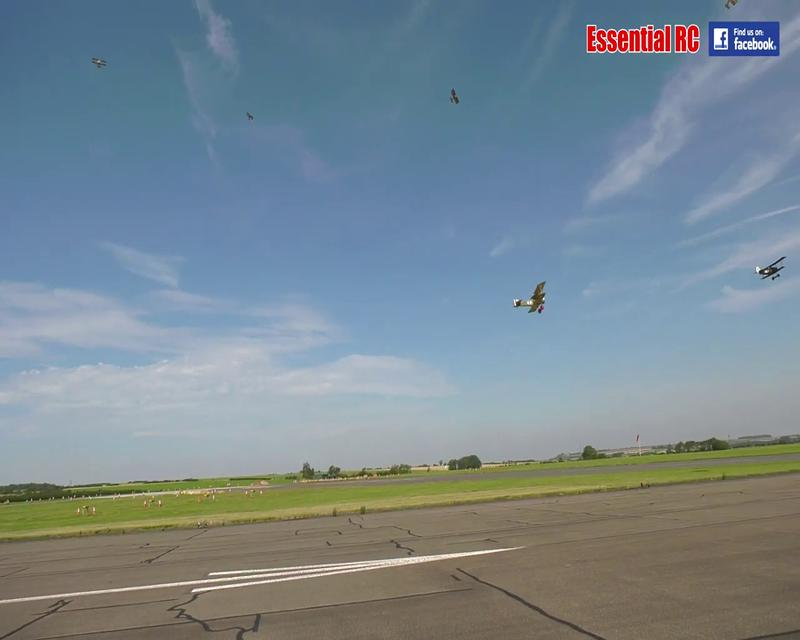UAV: (512, 281, 548, 314), (754, 256, 786, 281)
